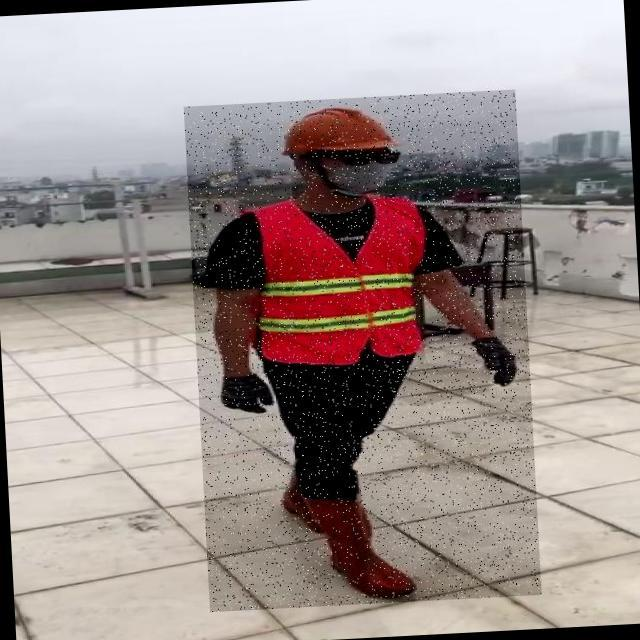Gloves: (467, 336, 520, 390), (220, 372, 276, 418)
Helmet: (268, 99, 399, 158)
Human: (184, 90, 542, 613)
Safety Boot: (305, 490, 419, 603), (279, 457, 322, 538)
Safety Vest: (243, 196, 425, 368)
